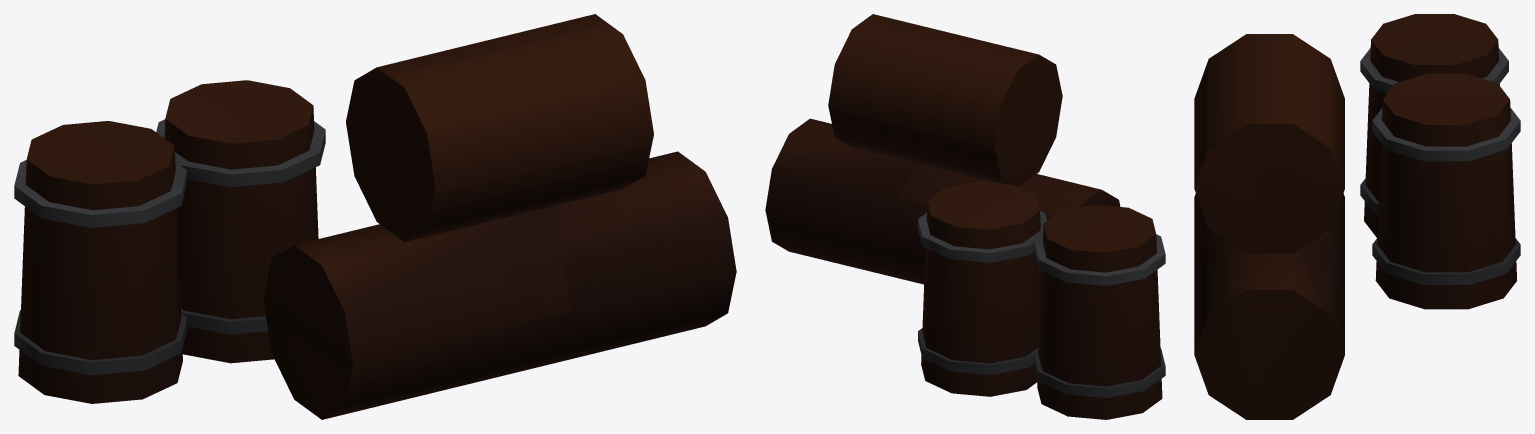
The model's file is Barris4.fbx.
3 renders of one model, left to right at view 1: azimuth 30°, elevation 25°; view 2: azimuth 150°, elevation 25°; view 3: azimuth 270°, elevation 25°, orthographic. The views are drawn at different scales.
Parts seen in each view (by area): view 1: Barris4; view 2: Barris4; view 3: Barris4.
Boxes of the visible parts, x1,y1,x2,y2 form: Barris4: (14, 14, 736, 419); Barris4: (765, 14, 1165, 419); Barris4: (1194, 14, 1520, 419).
Bounding box in the file's own units: 2.33 × 1.24 × 1.39.
